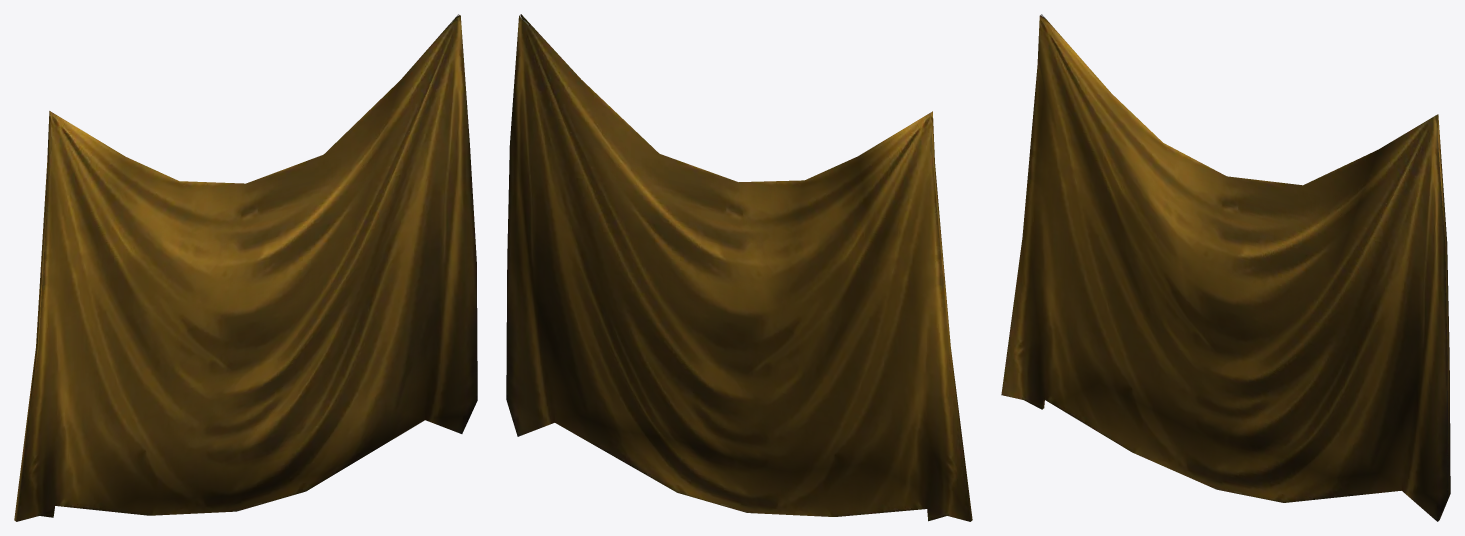
Rendered from KM_VOB_CURTAIN_06.glb.
The picture shows the model from 3 angles, left to right: view 1: azimuth 30°, elevation 25°; view 2: azimuth 150°, elevation 25°; view 3: azimuth 330°, elevation 25°; orthographic projection. The views are drawn at different scales.
Visible parts, largest first — view 1: Mesh; view 2: Mesh; view 3: Mesh.
Part boxes in pixels (<box>): Mesh: <box>14,14,477,521</box>; Mesh: <box>506,14,972,521</box>; Mesh: <box>1001,14,1450,521</box>.
Bounding box in the file's own units: 2.39 × 2.2 × 0.081.
1 material, 1 textured.
